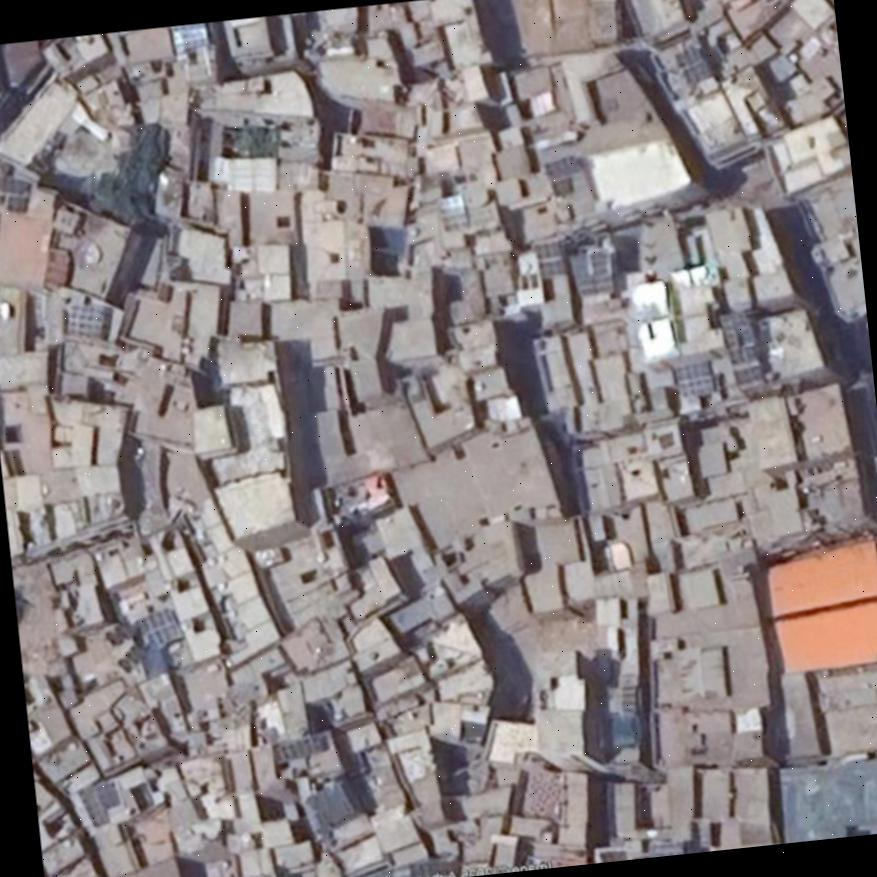Solarpanel: (721, 312, 761, 364), (134, 606, 183, 648), (675, 40, 711, 80), (673, 362, 713, 397), (66, 303, 104, 338), (532, 240, 565, 276), (543, 155, 579, 178)
